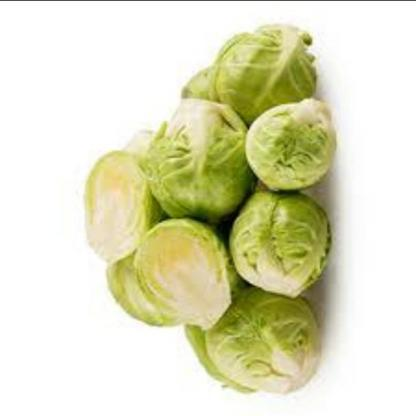brus capusta: (185, 268, 319, 411), (114, 212, 240, 353), (136, 102, 260, 214), (63, 145, 164, 257), (207, 23, 318, 123), (227, 206, 329, 300), (244, 106, 336, 196)
